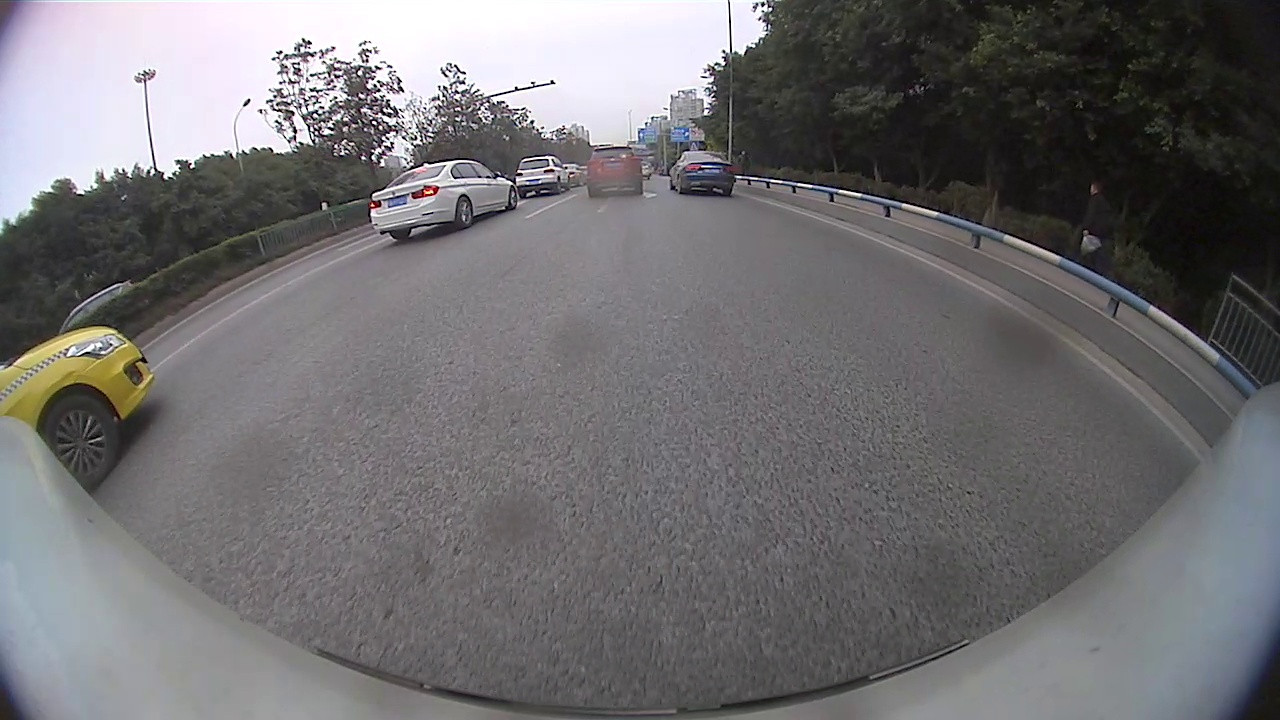car: (1, 323, 157, 490), (368, 158, 522, 241), (668, 148, 737, 198), (585, 144, 645, 197), (514, 153, 573, 198)
front: (40, 393, 123, 494), (506, 187, 519, 211)
person: (1087, 178, 1109, 272)
rear: (456, 196, 477, 231)
